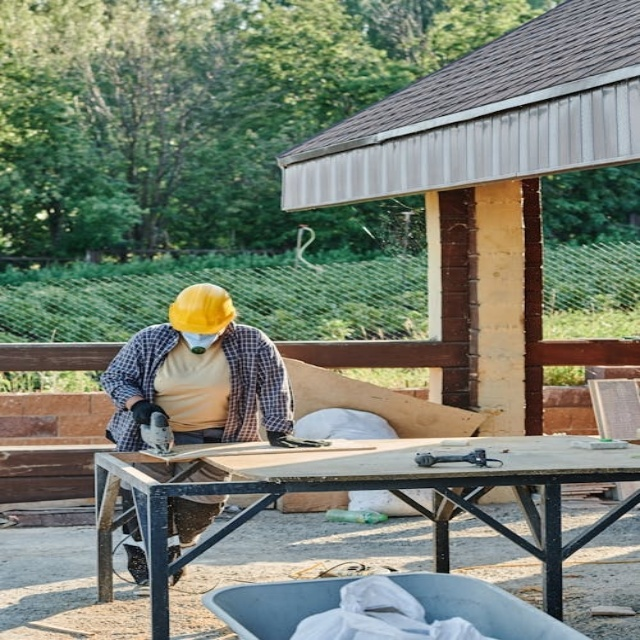Guantes: (267, 430, 323, 448), (131, 401, 169, 426)
Mascara: (180, 331, 220, 355)
